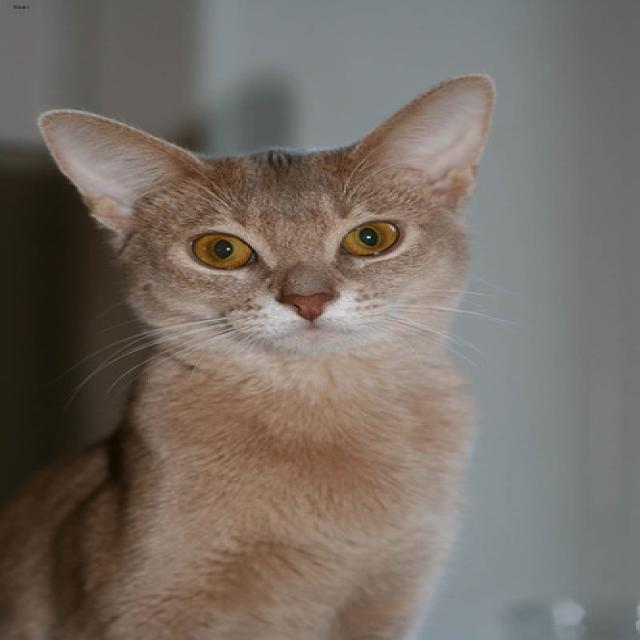Abyssinian: (37, 73, 492, 355)
